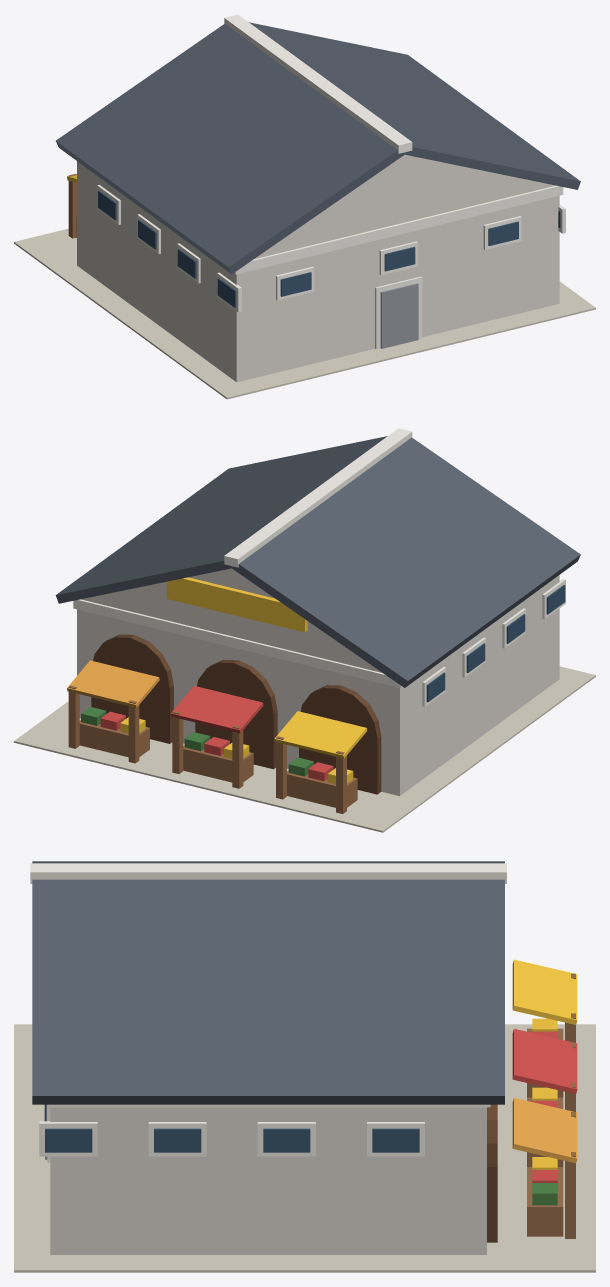
3 renders of one model, top to bottom at view 1: azimuth 30°, elevation 25°; view 2: azimuth 150°, elevation 25°; view 3: azimuth 270°, elevation 25°, orthographic. The views are drawn at different scales.
Visible parts, largest first — view 1: roof (×2), hall, ground, gable, string_course, ridge, garage_door, window_glass (×3), garage_door_frame, stall_post; view 2: roof (×2), hall, ground, market_bay (×3), stall_awning (×3), gable, stall (×3), stall_post (×6), string_course, sign, ridge; view 3: roof (×2), hall, ground, stall_awning (×3), ridge, window_glass (×4), window_frame (×4), string_course, stall, market_bay, stall_post, produce.
Boxes of the visible parts, left/top/right/bottom form: roof (×2): left=56, top=22, right=580, bottom=273; hall: left=77, top=161, right=559, bottom=382; ground: left=14, top=228, right=595, bottom=399; gable: left=258, top=154, right=551, bottom=256; string_course: left=234, top=185, right=563, bottom=274; ridge: left=224, top=14, right=412, bottom=153; garage_door: left=380, top=283, right=418, bottom=348; window_glass (×3): left=280, top=221, right=518, bottom=296; garage_door_frame: left=375, top=276, right=422, bottom=349; stall_post: left=68, top=173, right=76, bottom=238; roof (×2): left=55, top=436, right=580, bottom=687; hall: left=77, top=575, right=559, bottom=795; ground: left=14, top=666, right=595, bottom=832; market_bay (×3): left=91, top=634, right=381, bottom=794; stall_awning (×3): left=67, top=660, right=367, bottom=758; gable: left=85, top=568, right=378, bottom=670; stall (×3): left=79, top=720, right=357, bottom=807; stall_post (×6): left=68, top=685, right=346, bottom=813; string_course: left=73, top=599, right=402, bottom=688; sign: left=166, top=577, right=307, bottom=632; ridge: left=224, top=428, right=412, bottom=567; roof (×2): left=32, top=861, right=504, bottom=1104; hall: left=50, top=1107, right=486, bottom=1254; ground: left=14, top=1024, right=595, bottom=1272; stall_awning (×3): left=512, top=959, right=577, bottom=1163; ridge: left=30, top=863, right=506, bottom=883; window_glass (×4): left=45, top=1128, right=419, bottom=1152; window_frame (×4): left=39, top=1121, right=424, bottom=1156; string_course: left=46, top=1104, right=490, bottom=1107; stall: left=527, top=1167, right=563, bottom=1236; market_bay: left=487, top=1104, right=497, bottom=1242; stall_post: left=565, top=1152, right=575, bottom=1238; produce: left=532, top=1183, right=557, bottom=1205.
Bounding box in the file's own units: 16 × 8.55 × 16.
